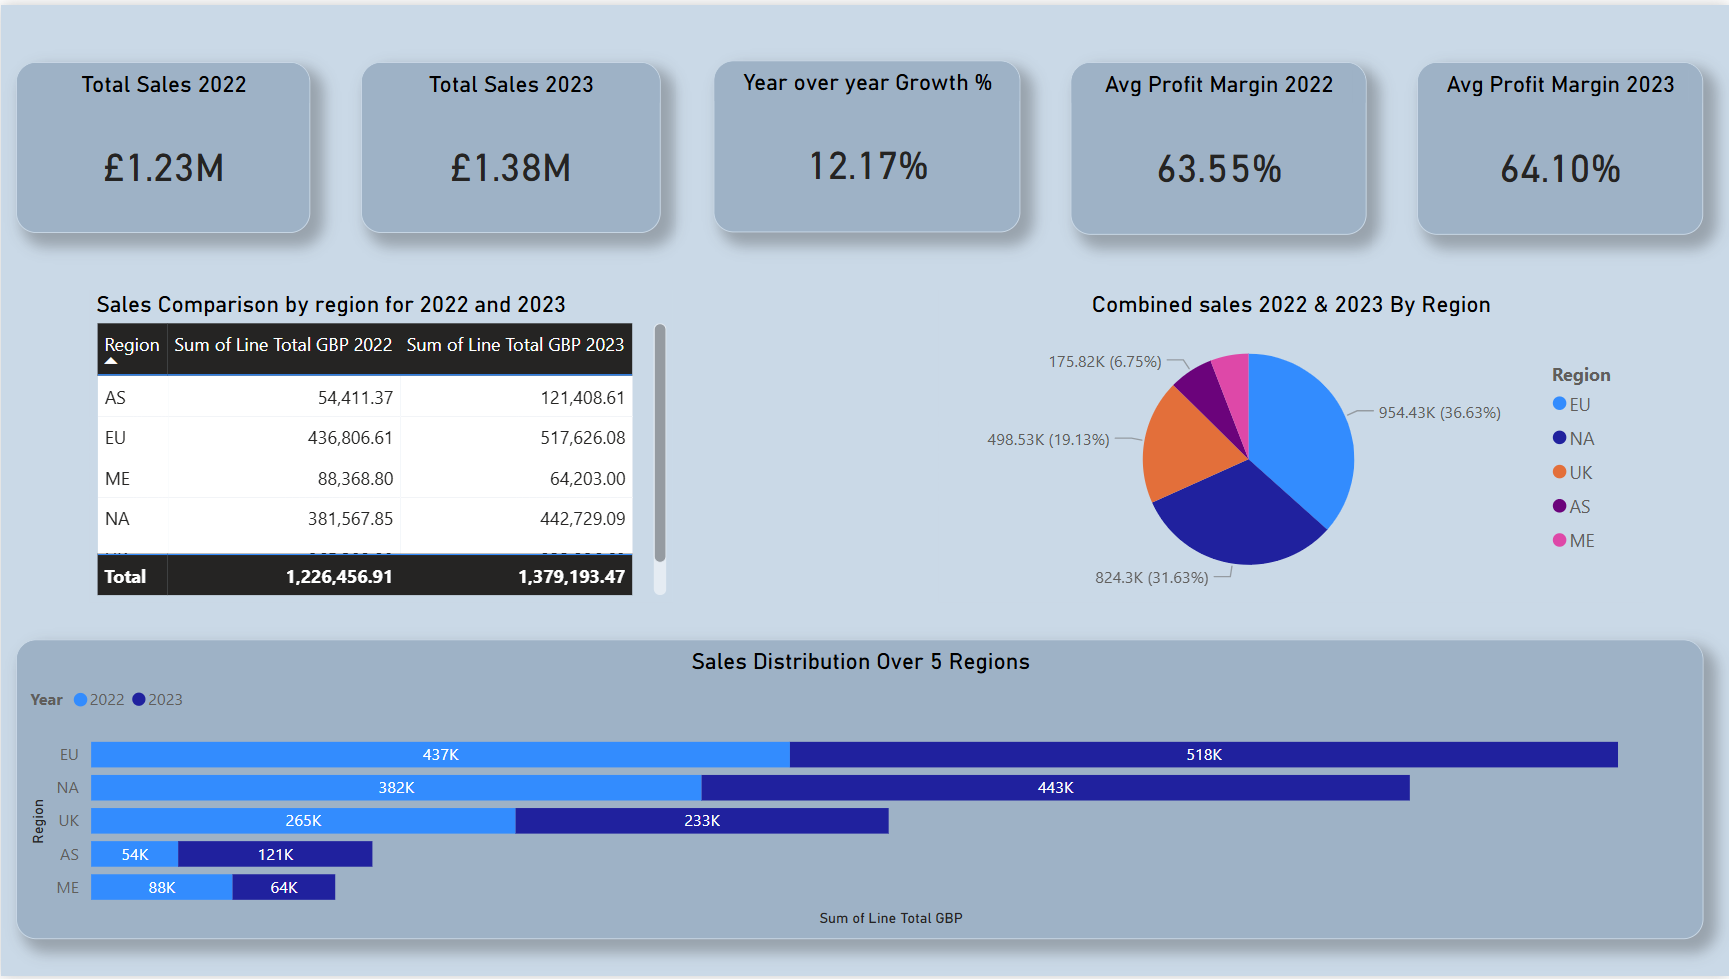

What the dashboard file says about the page in this screenshot:
{"tool":"powerbi","page":{"name":"Executive Summary","canvas":[1280,720],"ordinal":1},"visuals":[{"type":"cardVisual","title":"Total Sales 2022","fields":{"Data":["Sum(Craster Technical Exercise - Sales data 2022.Line Total GBP)"]},"box":[11.5,41.7,218.1,126.8],"z":0},{"type":"cardVisual","title":"Total Sales 2023","fields":{"Data":["Sum(Craster Technical Exercise - Sales data 2023.Line Total GBP)"]},"box":[266.9,41.7,221.7,126.8],"z":1000},{"type":"cardVisual","title":"Year over year Growth %","fields":{"Data":["Craster Technical Exercise - Customer Data.YoY Growth %"]},"box":[527.3,41.4,227.3,127.3],"z":2000},{"type":"cardVisual","title":"Avg Profit Margin 2022","fields":{"Data":["Craster Technical Exercise - Sales data 2022.Avg Profit Margin %"]},"box":[791.8,41.7,219,127.7],"z":3000},{"type":"cardVisual","title":"Avg Profit Margin 2023","fields":{"Data":["Craster Technical Exercise - Sales data 2023.Avg Profit Margin % 2023"]},"box":[1049,41.7,211.9,127.7],"z":4000},{"type":"barChart","title":"Sales Distribution Over 5 Regions","fields":{"Series":["CombinedSales.Year"],"Category":["Craster Technical Exercise - Customer Data.Region"],"Y":["Sum(CombinedSales.Line Total GBP)"]},"box":[11.5,470,1250.2,221.7],"z":5000},{"type":"tableEx","title":"Sales Comparison by region for 2022 and 2023","fields":{"Values":["Craster Technical Exercise - Customer Data.Region","Sum(Craster Technical Exercise - Sales data 2022.Line Total GBP)","Sum(Craster Technical Exercise - Sales data 2023.Line Total GBP)"]},"box":[65.7,211.1,432.3,231.3],"z":6000},{"type":"pieChart","title":"Combined sales 2022 & 2023 By Region","fields":{"Category":["Craster Technical Exercise - Customer Data.Region"],"Y":["Sum(CombinedSales.Line Total GBP)"]},"box":[694.9,211.1,523.2,231.3],"z":7000}]}

Visuals, with their boxes in screenshot pixels (x1, y1, x2, y2), scaled from the page's 1280x720 canvas onto the 1729x979 screenshot:
"Total Sales 2022" cardVisual: 16:57:310:229
"Total Sales 2023" cardVisual: 361:57:660:229
"Year over year Growth %" cardVisual: 712:56:1019:229
"Avg Profit Margin 2022" cardVisual: 1070:57:1365:230
"Avg Profit Margin 2023" cardVisual: 1417:57:1703:230
"Sales Distribution Over 5 Regions" barChart: 16:639:1704:941
"Sales Comparison by region for 2022 and 2023" tableEx: 89:287:673:602
"Combined sales 2022 & 2023 By Region" pieChart: 939:287:1645:602
